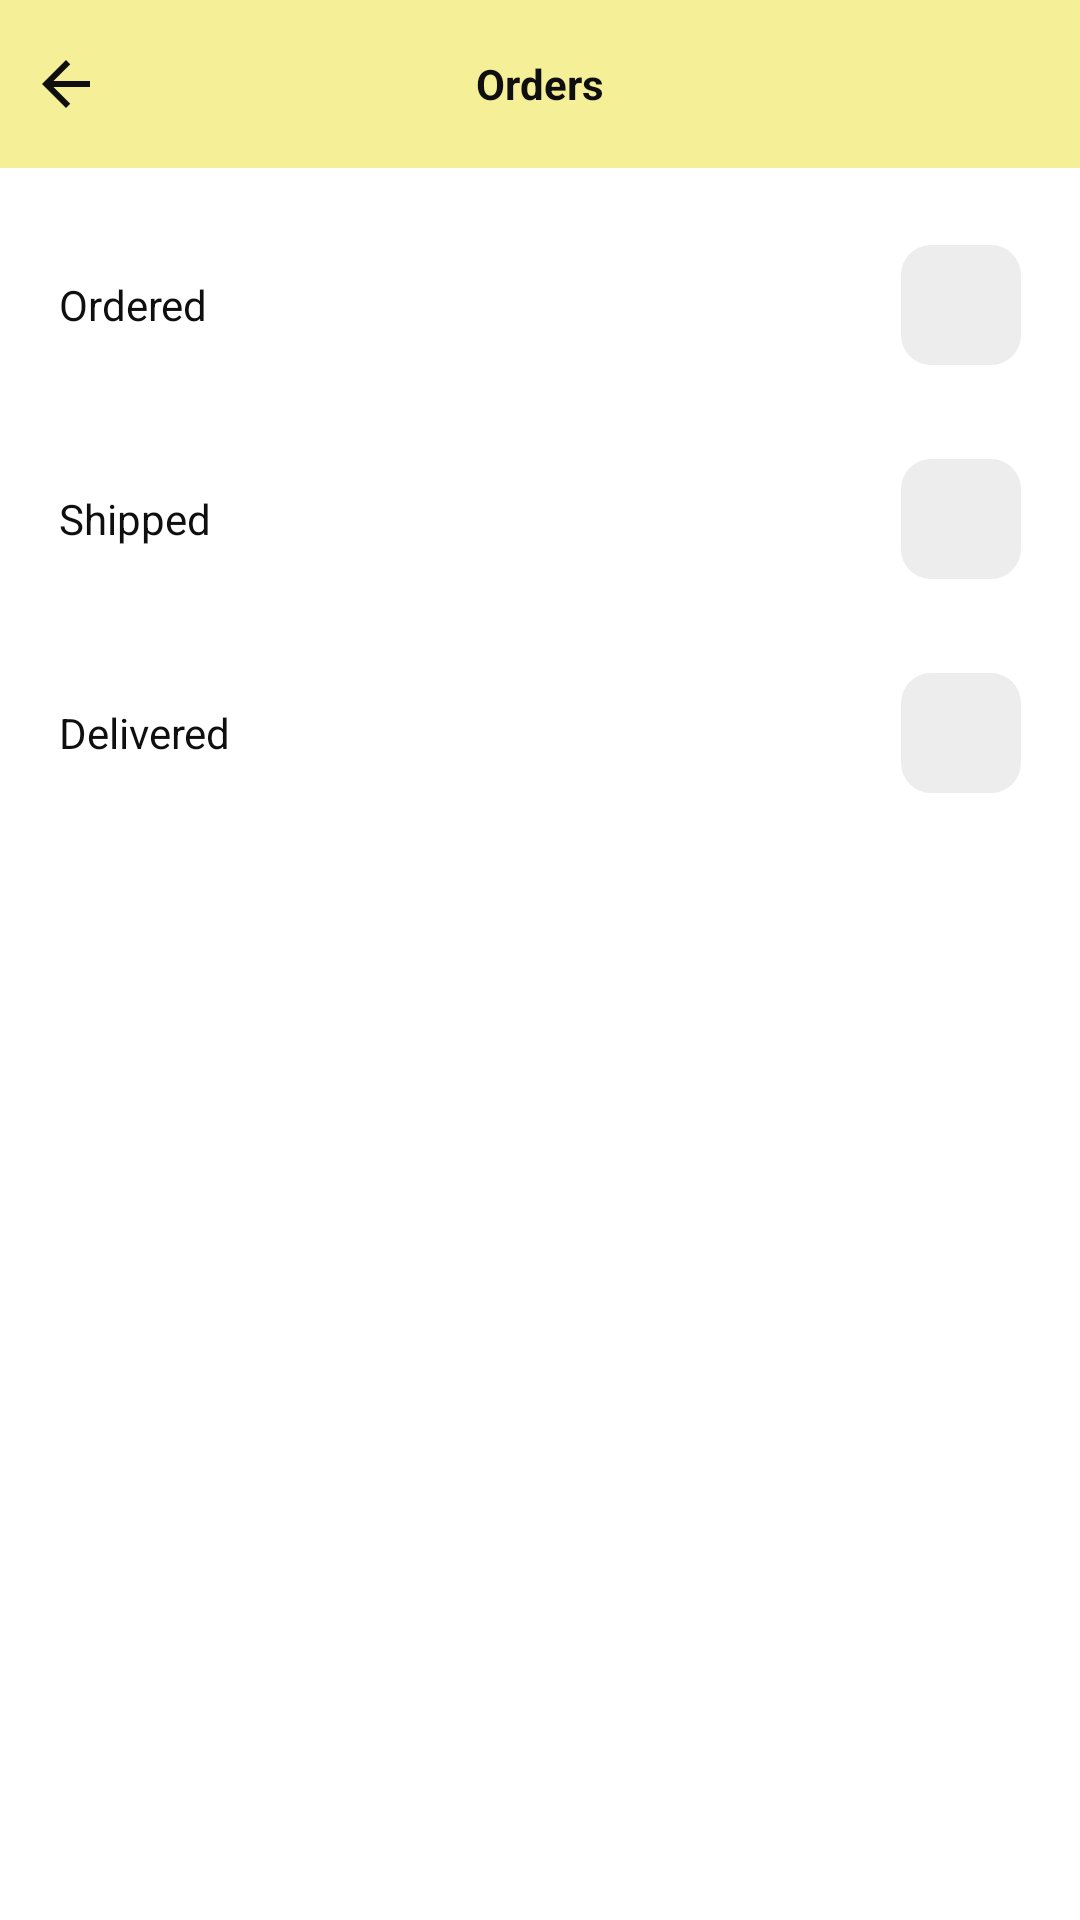

Screen size 1080*1920. Icon name, then its box in pixels as box(x1, y1, x2, y2):
back: box(42, 60, 90, 108)
